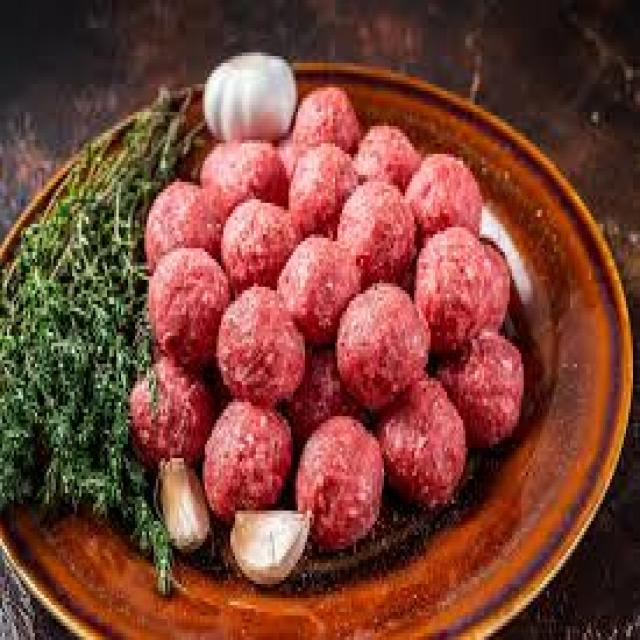meatball: (290, 412, 386, 558), (333, 279, 432, 413), (202, 396, 301, 517), (210, 285, 307, 407), (433, 326, 528, 450), (144, 246, 232, 370), (331, 169, 425, 280), (380, 385, 466, 506), (268, 232, 363, 332), (411, 227, 484, 352), (217, 193, 300, 295), (406, 144, 488, 242), (143, 170, 222, 271), (287, 137, 364, 239)
